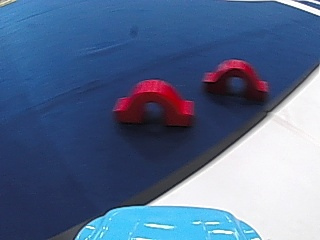bridge: (108, 75, 197, 127), (199, 55, 273, 103)
